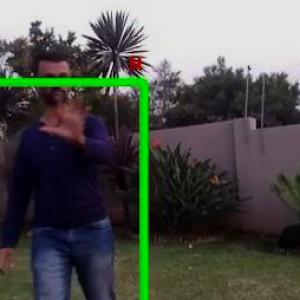follow_hand: (37, 87, 99, 146)
